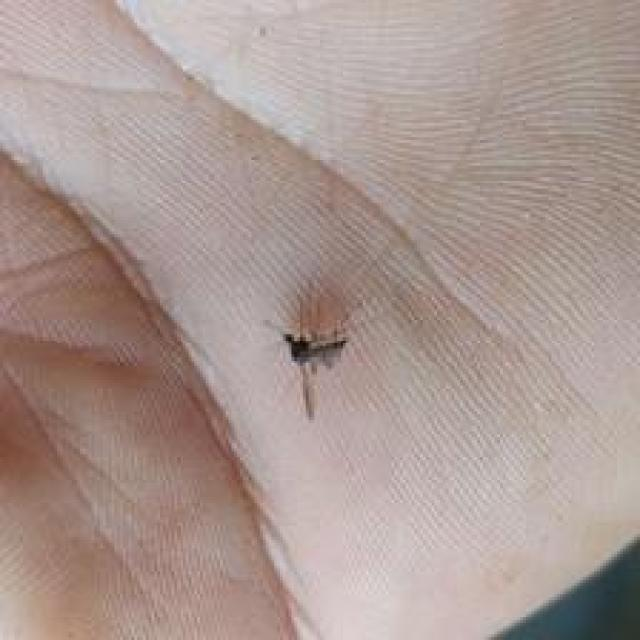Aedes albopictus: (263, 286, 351, 420)
